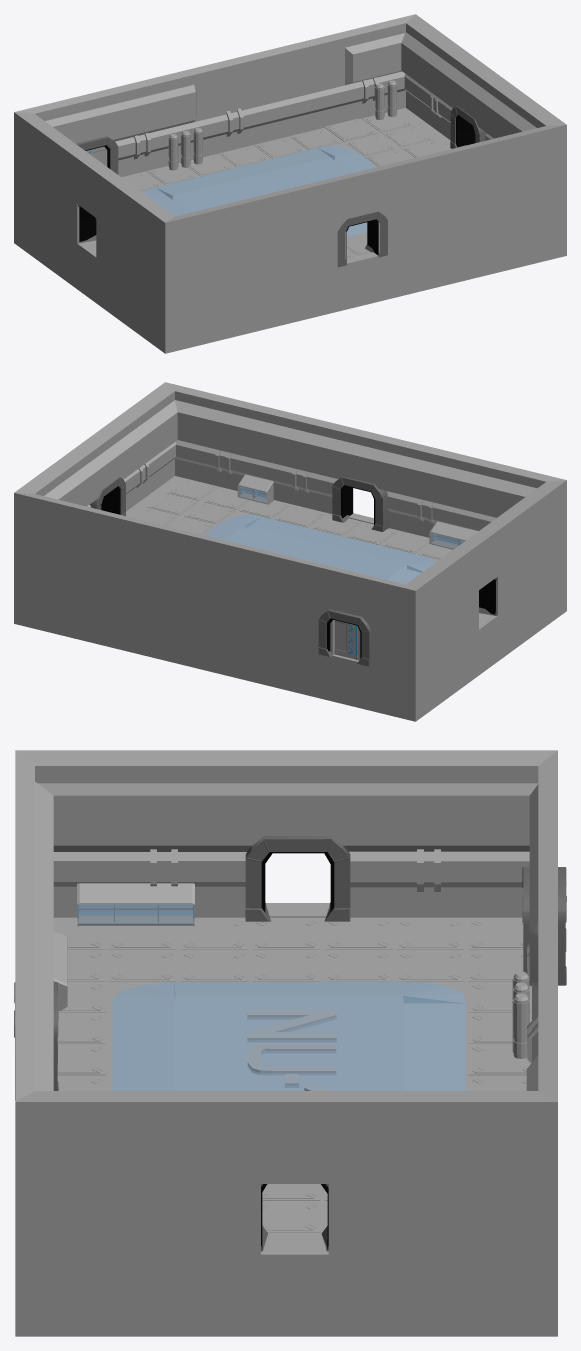
File: HUB - Walls and Floor.fbx
The picture shows the model from 3 angles, top to bottom: view 1: azimuth 30°, elevation 25°; view 2: azimuth 150°, elevation 25°; view 3: azimuth 270°, elevation 25°; orthographic projection. The views are drawn at different scales.
Visible parts, largest first — view 1: pCube484, pCube209, pCylinder170, pCylinder169, pCylinder223, pCylinder180, pCube859, pCube855, polySurface53, pCylinder171, pCube868, polySurface65 (+11 smaller); view 2: pCube484, pCylinder181, pCube209, pCylinder223, pCylinder177, pCylinder176, pCube859, pCube868, pCube870, pCube474, pCube855, pCube472 (+13 smaller); view 3: pCube484, pCube209, pCylinder178, pCylinder175, pCylinder173, pCylinder181, pCube473, pCube254, pCube866, polySurface110, polySurface112, polySurface120 (+25 smaller).
Boxes of the visible parts, x1=… form: pCube484: x1=14, y1=14, x2=566, y2=353; pCube209: x1=143, y1=145, x2=376, y2=236; pCylinder170: x1=115, y1=71, x2=405, y2=160; pCylinder169: x1=45, y1=85, x2=196, y2=143; pCylinder223: x1=401, y1=32, x2=536, y2=138; pCylinder180: x1=345, y1=33, x2=404, y2=85; pCube859: x1=337, y1=211, x2=387, y2=267; pCube855: x1=450, y1=105, x2=486, y2=148; polySurface53: x1=324, y1=118, x2=377, y2=141; pCylinder171: x1=404, y1=73, x2=452, y2=122; pCube868: x1=76, y1=136, x2=118, y2=174; polySurface65: x1=382, y1=125, x2=433, y2=147; pCube484: x1=14, y1=382, x2=566, y2=721; pCylinder181: x1=175, y1=400, x2=536, y2=517; pCube209: x1=204, y1=514, x2=435, y2=584; pCylinder223: x1=44, y1=400, x2=177, y2=506; pCylinder177: x1=175, y1=440, x2=337, y2=496; pCylinder176: x1=387, y1=491, x2=495, y2=531; pCube859: x1=332, y1=476, x2=389, y2=531; pCube868: x1=318, y1=609, x2=371, y2=666; pCube870: x1=334, y1=620, x2=359, y2=660; pCube474: x1=429, y1=521, x2=477, y2=549; pCube855: x1=90, y1=477, x2=125, y2=515; pCube472: x1=237, y1=474, x2=273, y2=504; pCube484: x1=15, y1=750, x2=557, y2=1336; pCube209: x1=112, y1=981, x2=465, y2=1090; pCylinder178: x1=38, y1=783, x2=538, y2=851; pCylinder175: x1=349, y1=851, x2=529, y2=887; pCylinder173: x1=53, y1=852, x2=246, y2=886; pCylinder181: x1=35, y1=782, x2=53, y2=1090; pCube473: x1=77, y1=883, x2=194, y2=925; pCube254: x1=247, y1=1009, x2=336, y2=1090; pCube866: x1=245, y1=836, x2=350, y2=921; polySurface110: x1=108, y1=952, x2=176, y2=981; polySurface112: x1=252, y1=952, x2=320, y2=981; polySurface120: x1=396, y1=920, x2=464, y2=949.
Bounding box in the file's own units: 138 × 43.14 × 92.06.
